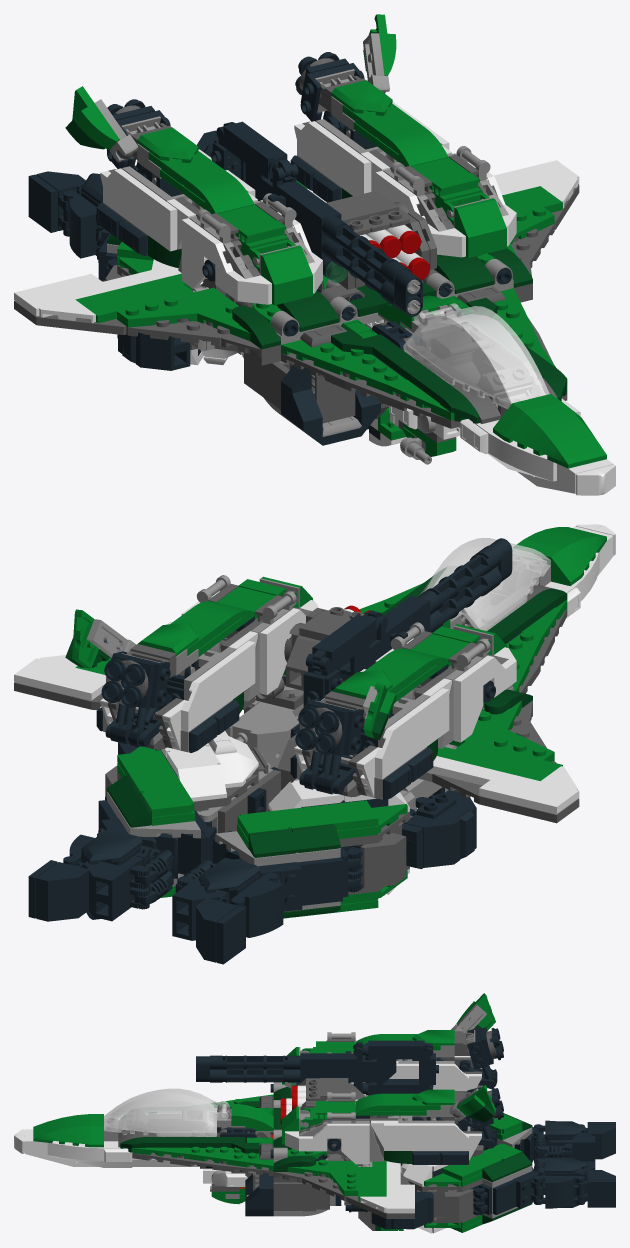
Rendered from afc-01i-legioss-fighter.dae.
3 renders of one model, top to bottom at view 1: azimuth 30°, elevation 25°; view 2: azimuth 150°, elevation 25°; view 3: azimuth 270°, elevation 25°, orthographic. The views are drawn at different scales.
Bounding box in the file's own units: 560 × 852 × 290.
